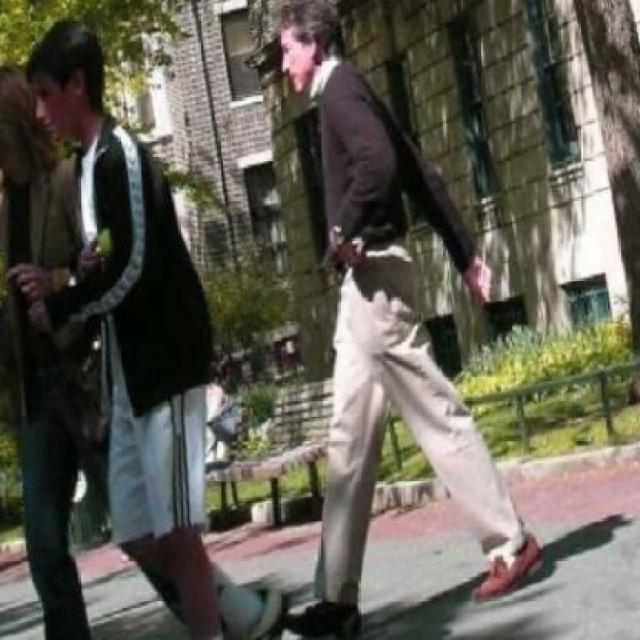Person: (248, 3, 554, 639), (6, 11, 251, 638), (0, 70, 108, 638)
